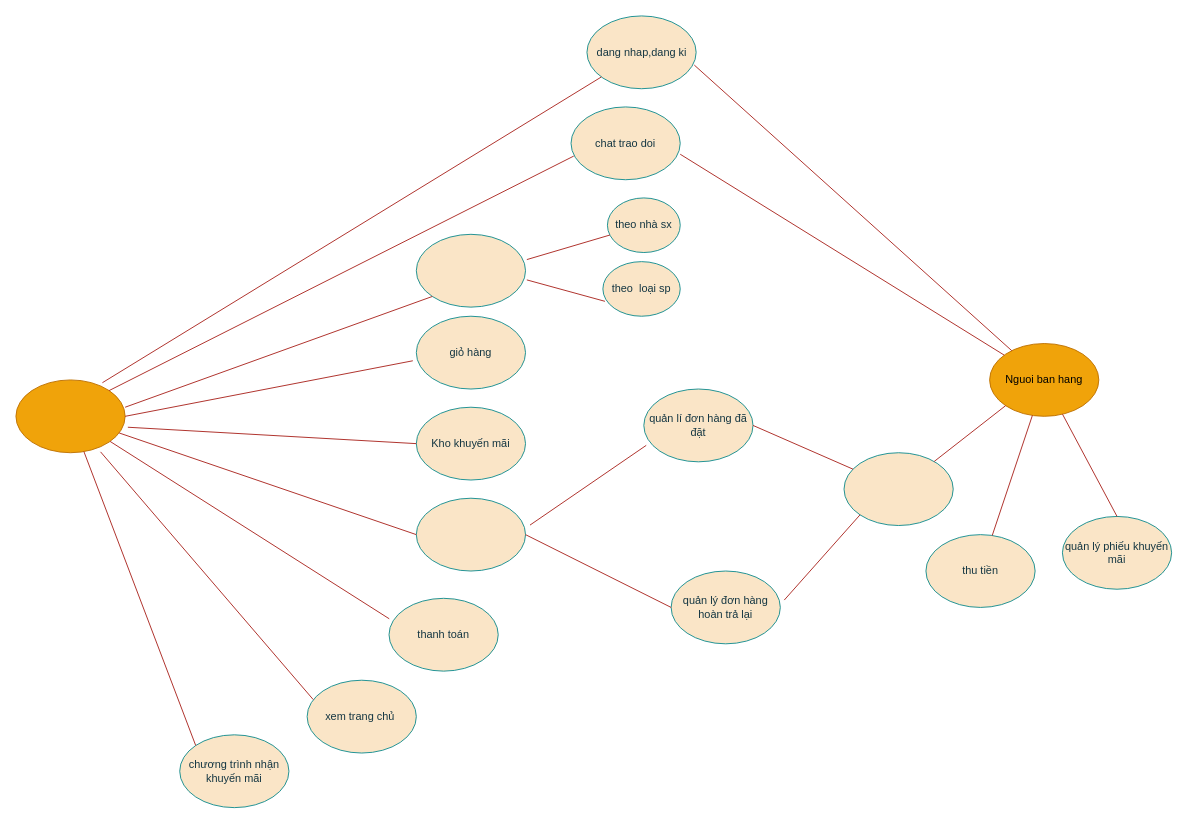
Image size: 1188x824. Some labels were removed from this diagram. The shapes that lost their labels are listed below. From the top down, each one's centre as x and y in pixels, then its label:
point 470,270: tìm kiếm sản phẩm
point 70,416: Khach hang
point 898,489: quản lý đơn hàng
point 470,534: đặt hàng
